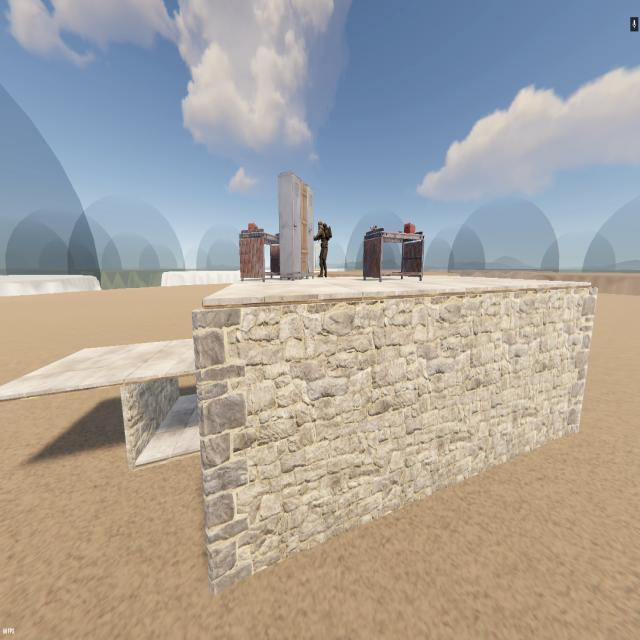Player: (315, 220, 330, 278)
